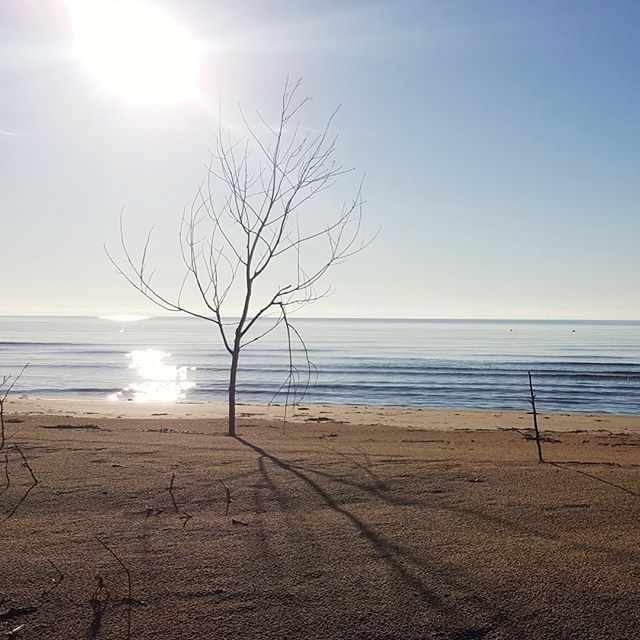beach: (1, 409, 640, 640)
sea: (1, 312, 640, 409)
sky: (1, 1, 638, 317)
sun: (74, 1, 202, 113)
tree: (101, 80, 371, 426)
